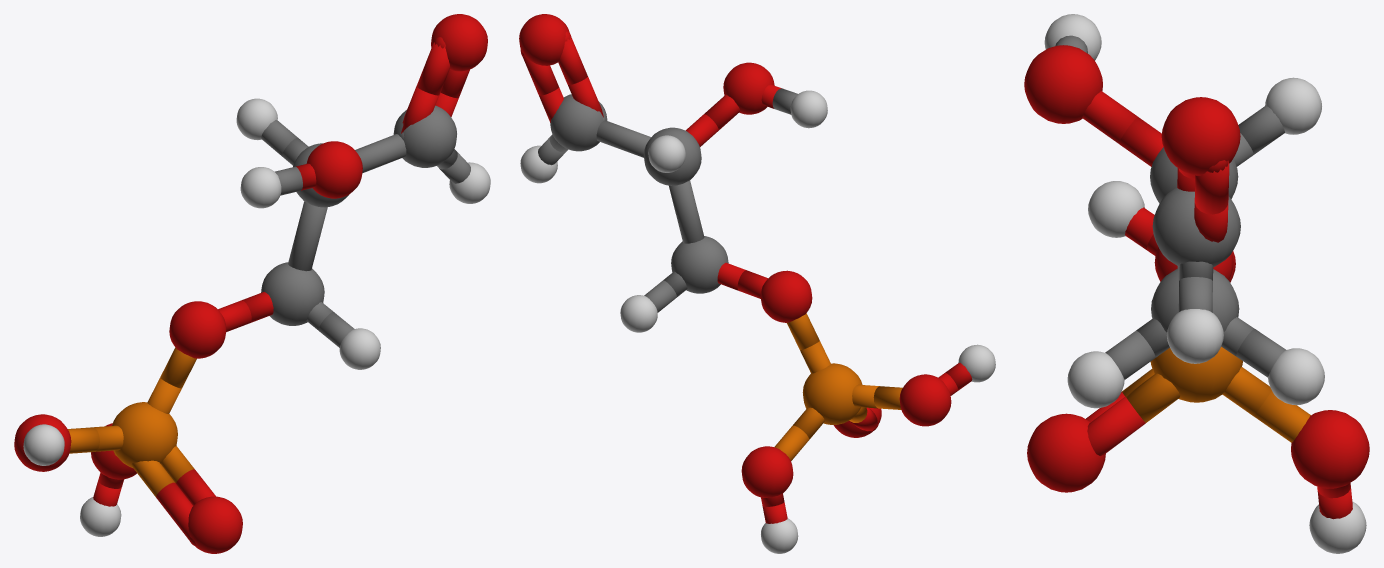
The model's file is glyceraldehyde_3_phosphate.obj.
The picture shows the model from 3 angles, left to right: view 1: azimuth 30°, elevation 25°; view 2: azimuth 150°, elevation 25°; view 3: azimuth 270°, elevation 25°; orthographic projection. The views are drawn at different scales.
Visible parts, largest first — view 1: ShapeSphere_ShapeSphere.001, ShapeSphere.007_ShapeSphere.003, ShapeSphere.001_ShapeSphere.002, ShapeSphere.009_ShapeSphere.003, ShapeSphere.005_ShapeSphere.002, ShapeSphere.002, ShapeSphere.006_ShapeSphere.002, ShapeCylinder.005_ShapeCylinder.003, ShapeSphere.015_ShapeSphere.004, ShapeSphere.014_ShapeSphere.004, ShapeSphere.011_ShapeSphere.004, ShapeSphere.003_ShapeSphere.002 (+21 smaller); view 2: ShapeSphere_ShapeSphere.001, ShapeSphere.007_ShapeSphere.003, ShapeSphere.009_ShapeSphere.003, ShapeSphere.003_ShapeSphere.002, ShapeSphere.004_ShapeSphere.002, ShapeSphere.001_ShapeSphere.002, ShapeSphere.006_ShapeSphere.002, ShapeSphere.002, ShapeSphere.008_ShapeSphere.003, ShapeCylinder.005_ShapeCylinder.003, ShapeCylinder.002, ShapeSphere.012_ShapeSphere.004 (+14 smaller); view 3: ShapeSphere.004_ShapeSphere.002, ShapeSphere.002, ShapeSphere.006_ShapeSphere.002, ShapeSphere.005_ShapeSphere.002, ShapeSphere.009_ShapeSphere.003, ShapeSphere_ShapeSphere.001, ShapeSphere.013_ShapeSphere.004, ShapeSphere.011_ShapeSphere.004, ShapeSphere.010_ShapeSphere.004, ShapeSphere.012_ShapeSphere.004, ShapeSphere.015_ShapeSphere.004, ShapeSphere.007_ShapeSphere.003 (+21 smaller).
Part boxes in pixels (x1,y1,x2,y2): ShapeSphere_ShapeSphere.001: (112,402,177,467); ShapeSphere.007_ShapeSphere.003: (261,262,324,325); ShapeSphere.001_ShapeSphere.002: (169,301,226,358); ShapeSphere.009_ShapeSphere.003: (393,105,456,167); ShapeSphere.005_ShapeSphere.002: (188,496,242,553); ShapeSphere.002: (306,141,362,198); ShapeSphere.006_ShapeSphere.002: (431,14,487,71); ShapeCylinder.005_ShapeCylinder.003: (288,201,327,271); ShapeSphere.015_ShapeSphere.004: (23,424,64,465); ShapeSphere.014_ShapeSphere.004: (240,167,281,208); ShapeSphere.011_ShapeSphere.004: (339,328,380,369); ShapeSphere.003_ShapeSphere.002: (14,414,71,471); ShapeSphere_ShapeSphere.001: (802,363,862,424); ShapeSphere.007_ShapeSphere.003: (671,236,728,293); ShapeSphere.009_ShapeSphere.003: (550,94,607,151); ShapeSphere.003_ShapeSphere.002: (899,374,951,426); ShapeSphere.004_ShapeSphere.002: (741,446,793,497); ShapeSphere.001_ShapeSphere.002: (760,270,812,322); ShapeSphere.006_ShapeSphere.002: (519,14,569,65); ShapeSphere.002: (723,62,774,114); ShapeSphere.008_ShapeSphere.003: (643,127,701,185); ShapeCylinder.005_ShapeCylinder.003: (669,180,704,243); ShapeCylinder.002: (596,120,651,157); ShapeSphere.012_ShapeSphere.004: (648,135,685,172); ShapeSphere.004_ShapeSphere.002: (1291,410,1369,488); ShapeSphere.002: (1024,45,1102,123); ShapeSphere.006_ShapeSphere.002: (1161,97,1240,175); ShapeSphere.005_ShapeSphere.002: (1027,413,1105,492); ShapeSphere.009_ShapeSphere.003: (1152,187,1240,267); ShapeSphere_ShapeSphere.001: (1150,346,1242,402); ShapeSphere.013_ShapeSphere.004: (1166,309,1223,363); ShapeSphere.011_ShapeSphere.004: (1067,351,1124,408); ShapeSphere.010_ShapeSphere.004: (1268,348,1324,405); ShapeSphere.012_ShapeSphere.004: (1265,77,1321,134); ShapeSphere.015_ShapeSphere.004: (1088,181,1144,237); ShapeSphere.007_ShapeSphere.003: (1151,268,1239,332).
Bounding box in the file's own units: 6.88 × 6.42 × 3.06.
